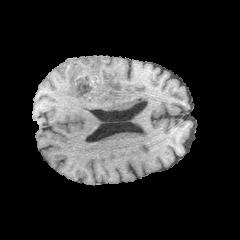glioma: (64, 58, 131, 109)
